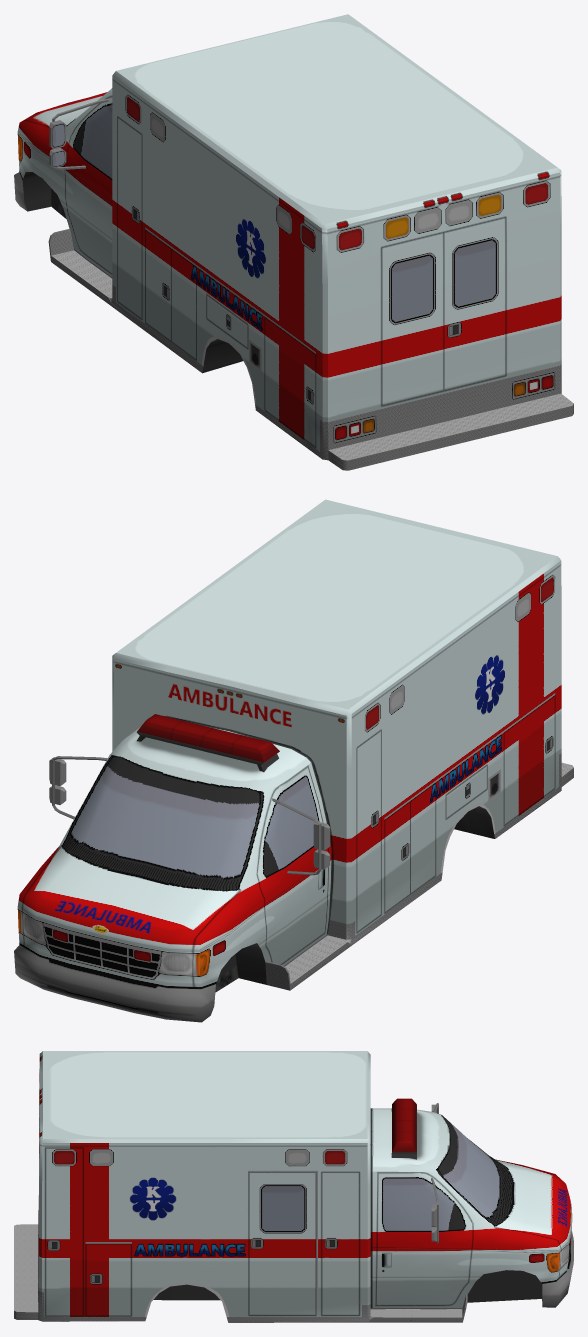
Rendered from vehicles_fhq92EconolineT3Ambulance.fbx.
3 views of the same model, one above another, from view 1: azimuth 30°, elevation 25°; view 2: azimuth 150°, elevation 25°; view 3: azimuth 270°, elevation 25° (orthographic). The views are drawn at different scales.
Visible parts, largest first — view 1: fhqeconolineT3; view 2: fhqeconolineT3; view 3: fhqeconolineT3.
Boxes of the visible parts, box(x1,y1,x2,y2) form: fhqeconolineT3: box(14, 14, 573, 470); fhqeconolineT3: box(14, 499, 573, 1022); fhqeconolineT3: box(14, 1051, 573, 1322).
Bounding box in the file's own units: 2.86 × 2.31 × 6.42.
